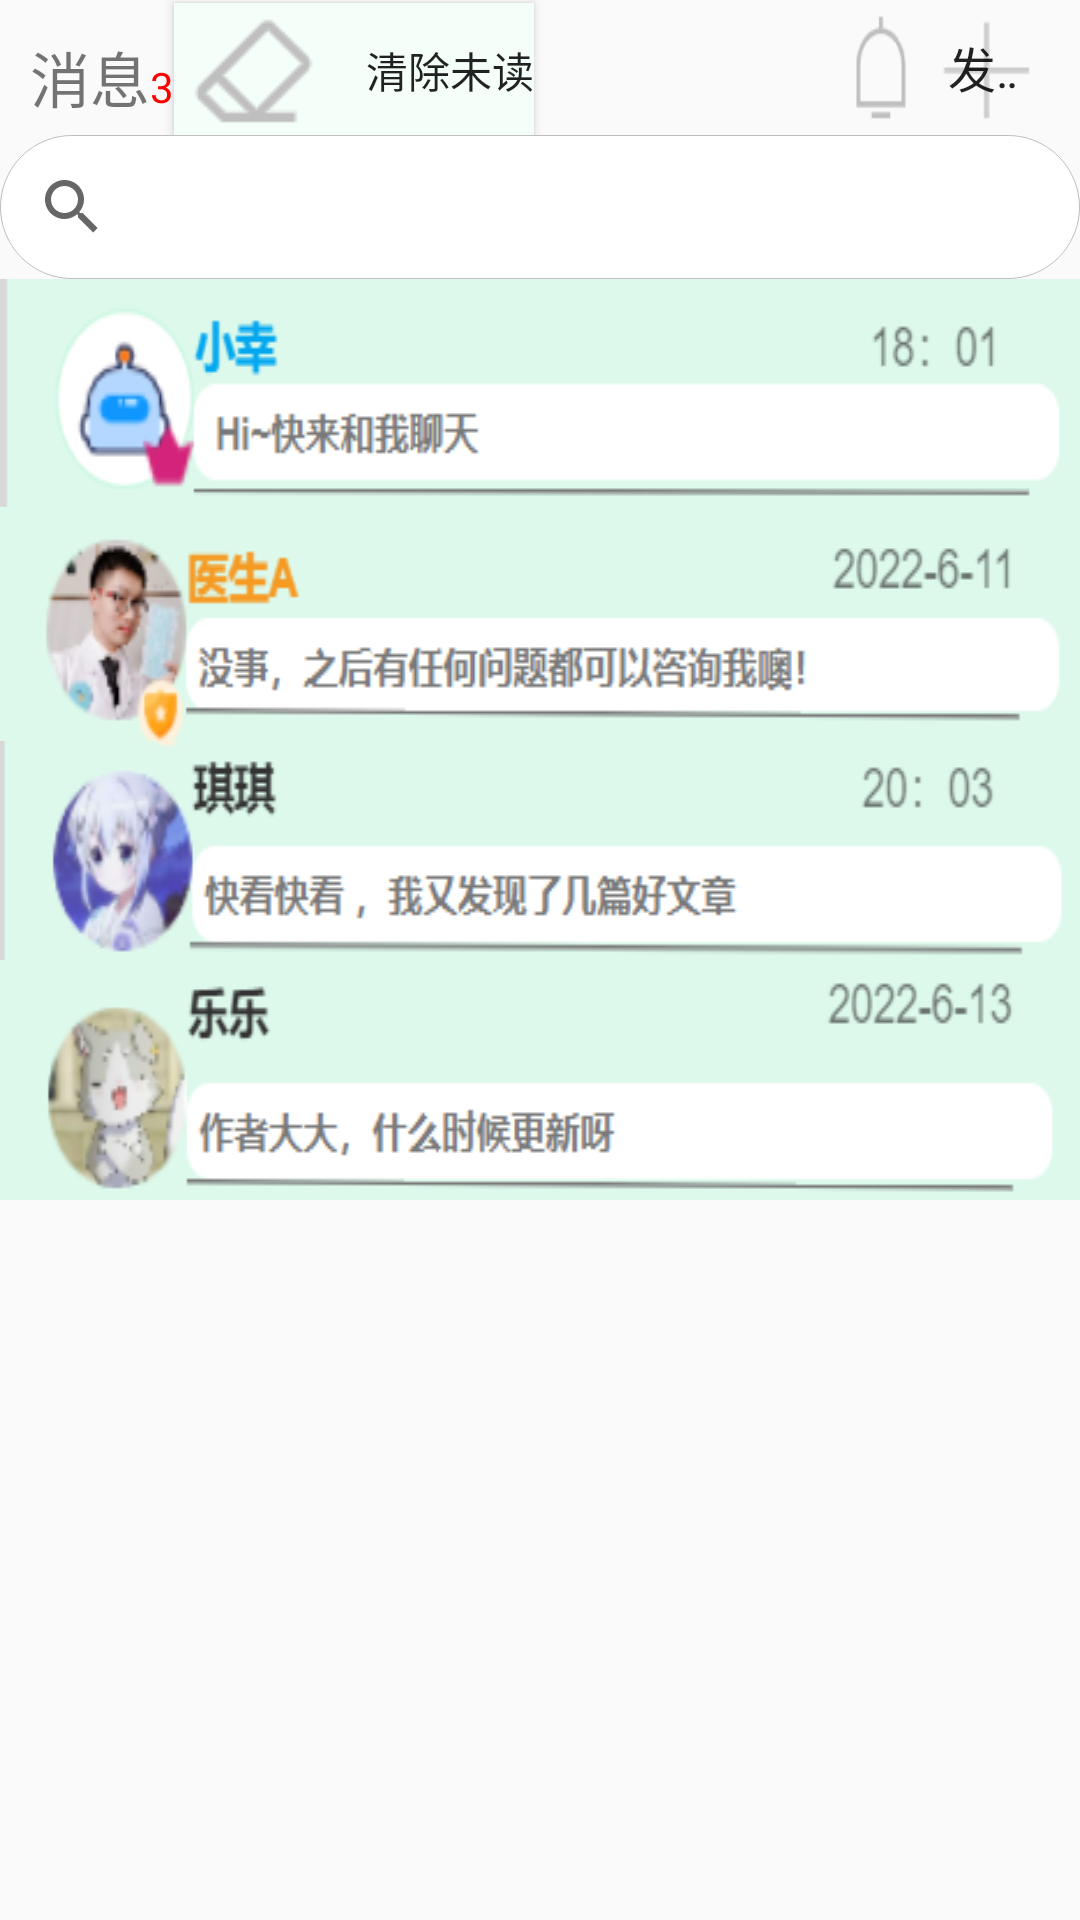

Where to tap for icons on this 1080px×1920px app screen, as (x=x, y=y):
notice: (x=881, y=67)
